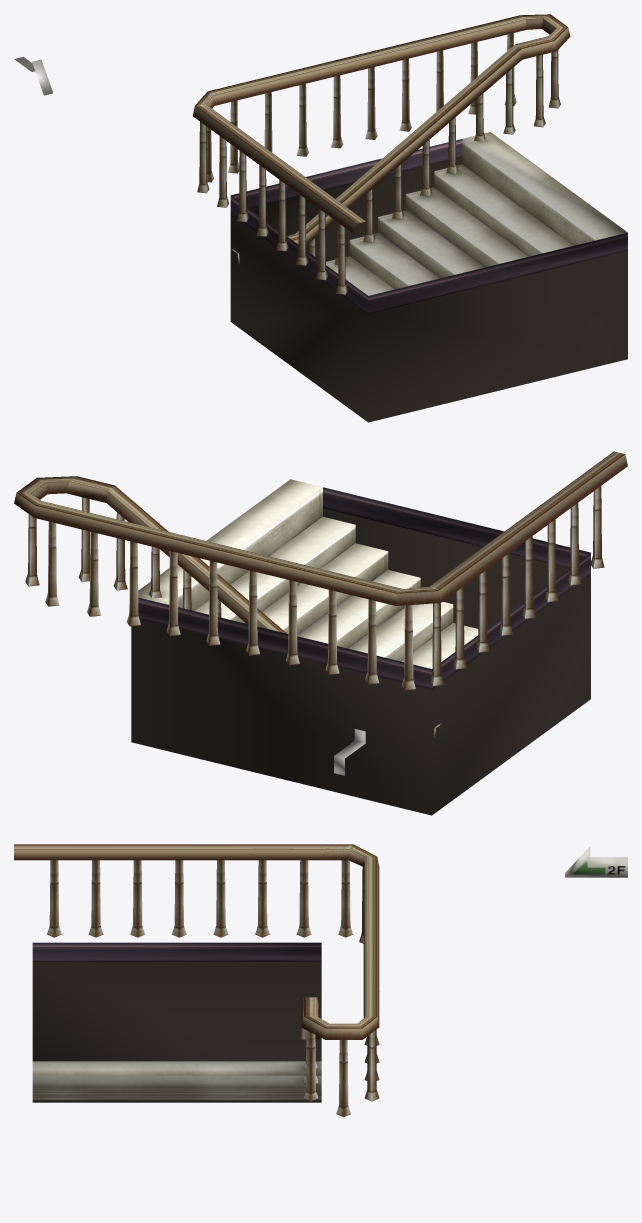
File: a_SWIstair03.glb
The picture shows the model from 3 angles, top to bottom: view 1: azimuth 30°, elevation 25°; view 2: azimuth 150°, elevation 25°; view 3: azimuth 270°, elevation 25°; orthographic projection. The views are drawn at different scales.
Parts seen in each view (by area): view 1: a_SWIstair03; view 2: a_SWIstair03; view 3: a_SWIstair03.
Part boxes in pixels (x1,y1,x2,y2): a_SWIstair03: (14, 14, 627, 422); a_SWIstair03: (14, 451, 627, 815); a_SWIstair03: (14, 844, 627, 1117).
Size of the model in its own units: 4.77 by 2.32 by 5.85.
3 materials, 3 textured.
